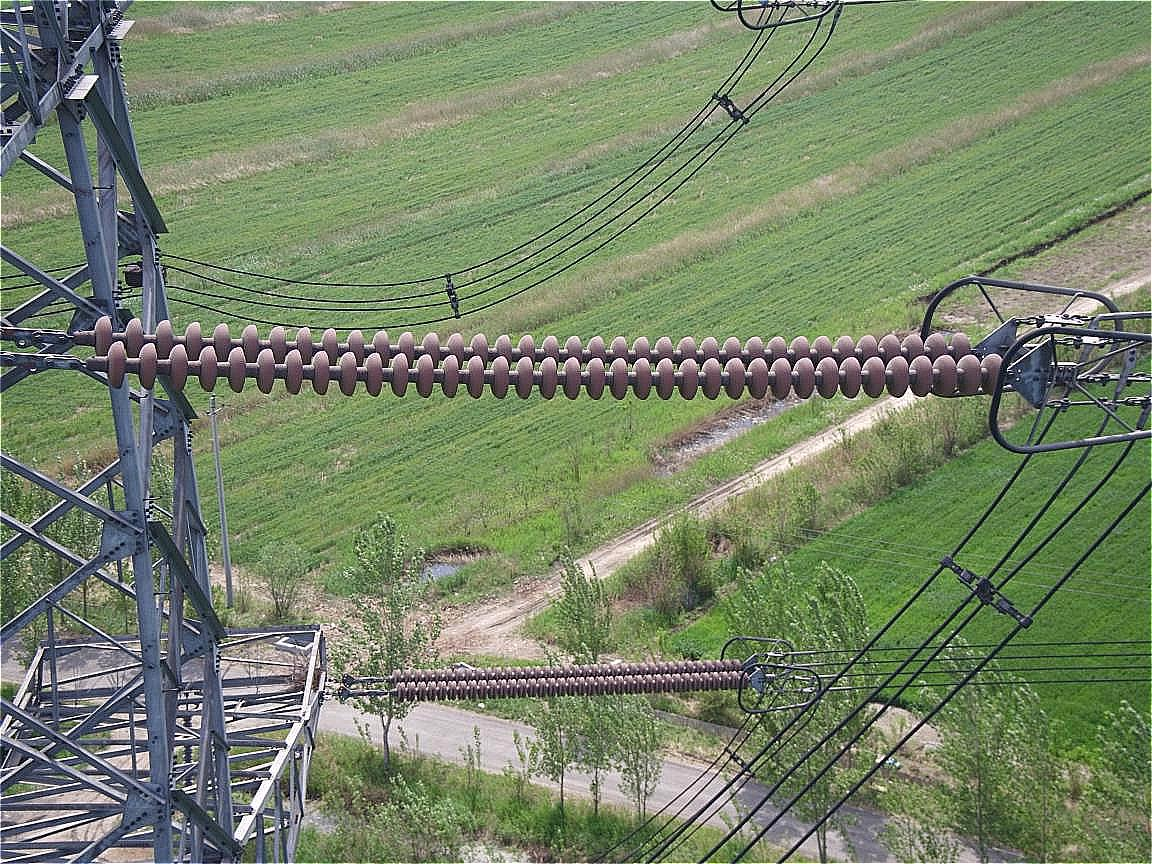insultor1: (56, 294, 1023, 440)
insultor2: (370, 639, 763, 711)
